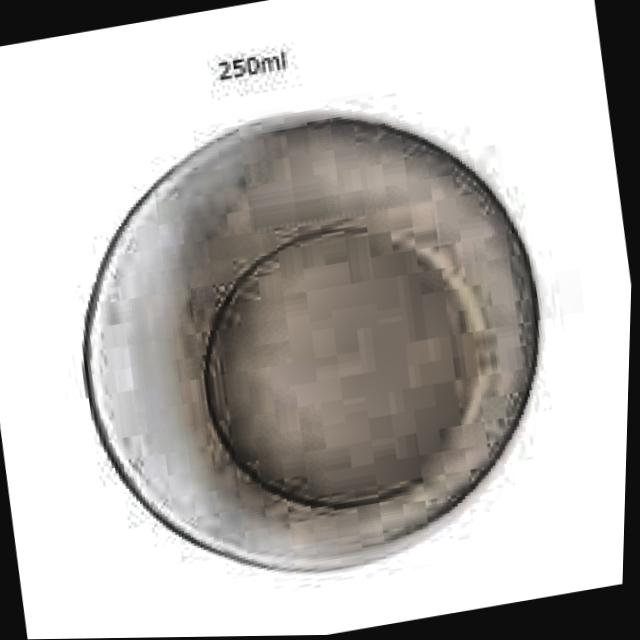Cup: (32, 65, 593, 619)
